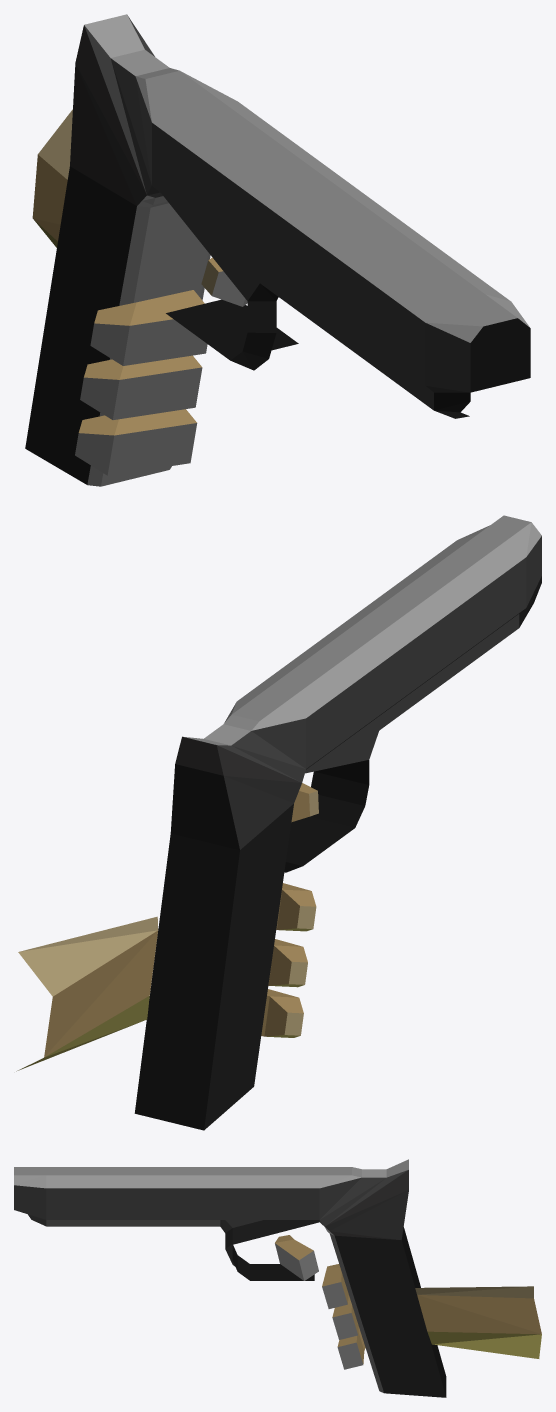
The model's file is Weapon_Pistol.obj.
3 renders of one model, top to bottom at view 1: azimuth 30°, elevation 25°; view 2: azimuth 150°, elevation 25°; view 3: azimuth 270°, elevation 25°, orthographic. The views are drawn at different scales.
Size of the model in its own units: 0.4148 by 0.99 by 2.12.
